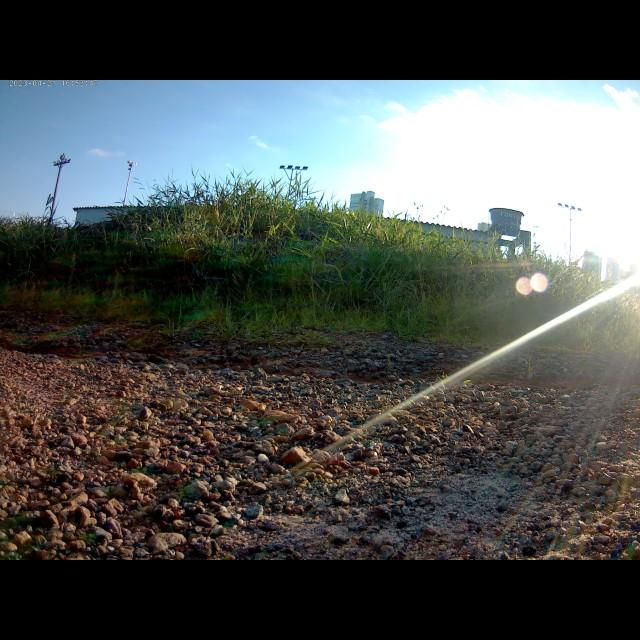ravina: (2, 334, 640, 395)
